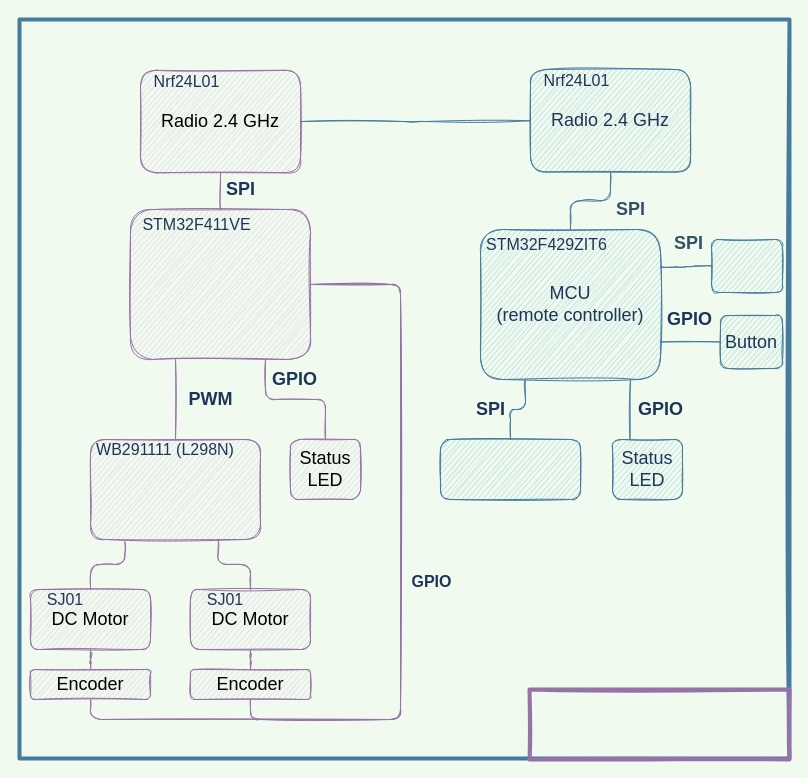
Some shapes in this 808 by 778 pixel diagram are drawn without their labels. The box of each missing label's shape, as (x1, y1, x2, y2) in pixels:
Flash: (710, 238, 782, 292)
Hardware Block Diagram: (527, 687, 791, 761)
MCU (Mobile robot): (130, 208, 310, 360)
Motor Driver - dual channel: (90, 438, 260, 540)
Touch screen: (440, 438, 580, 500)
